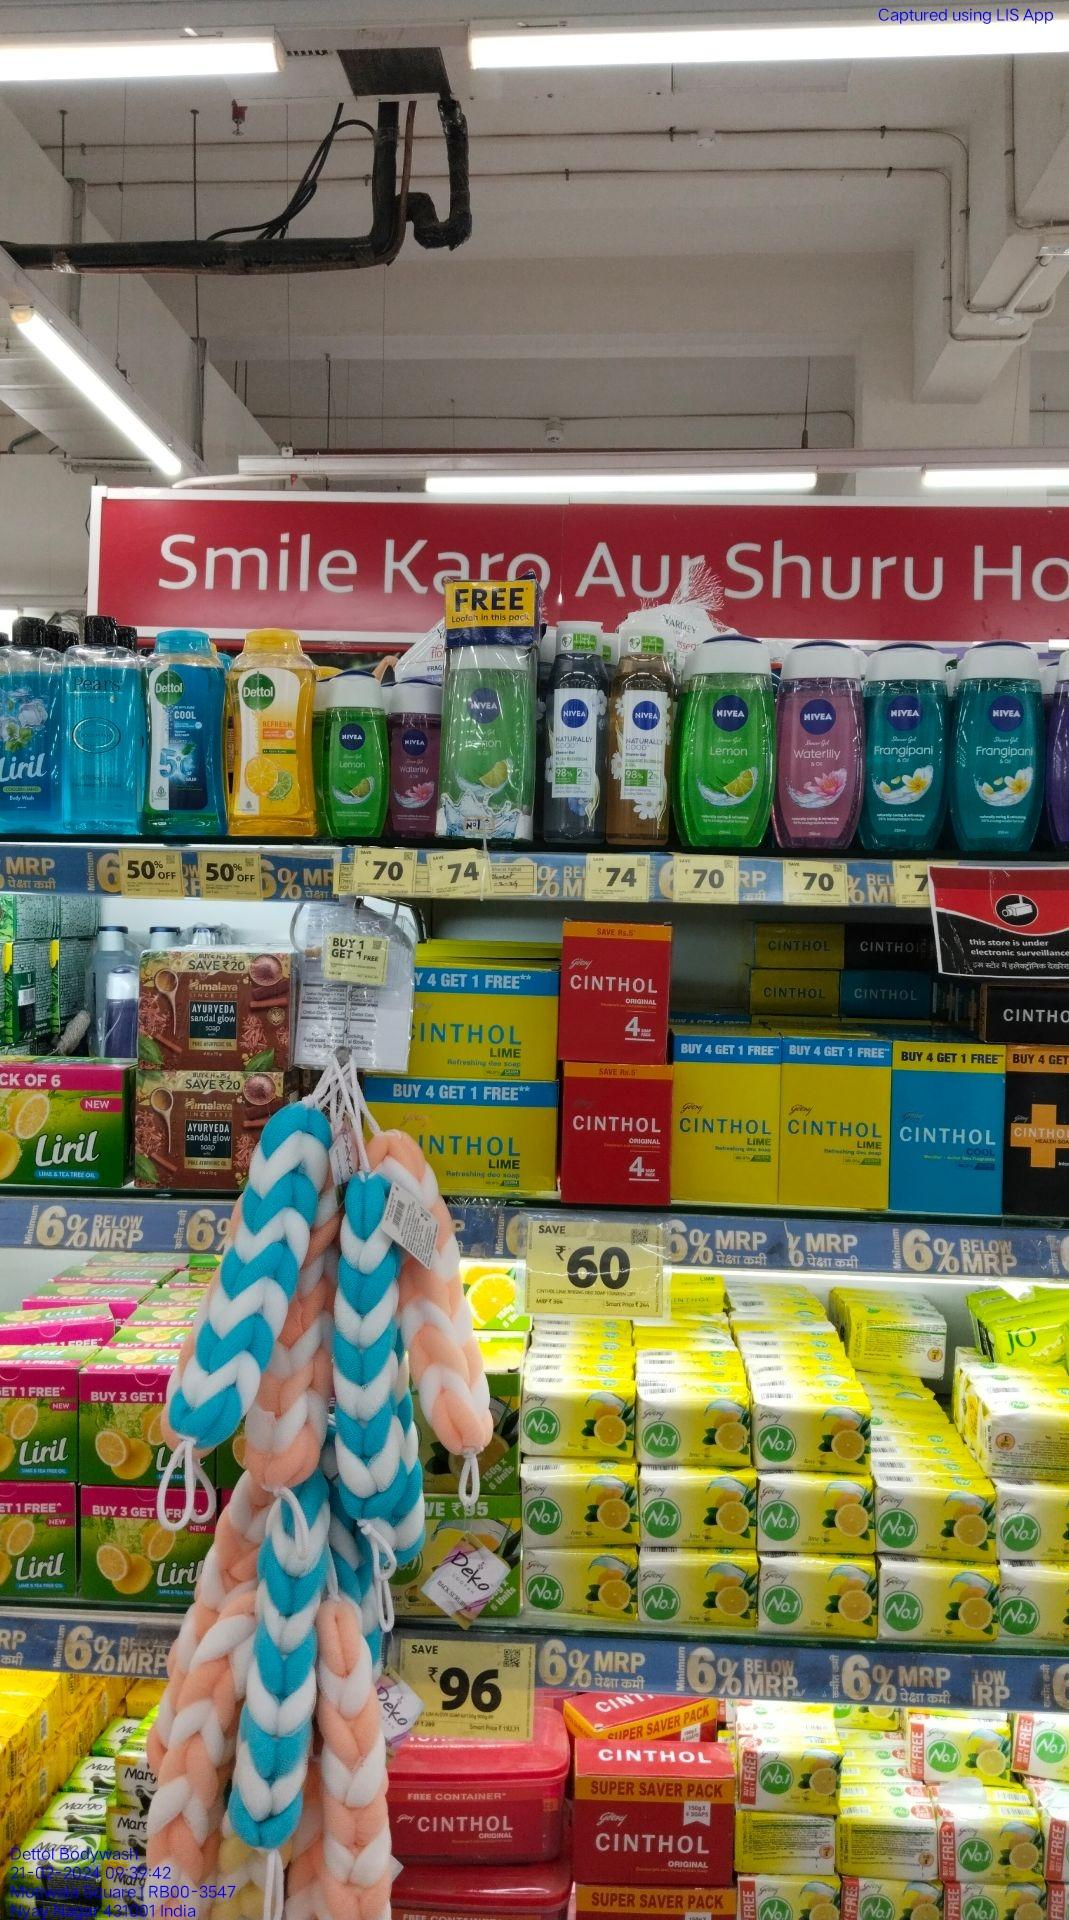Dettol_Bodywash_Cool: (143, 628, 226, 834)
Dettol_Bodywash_Refresh: (234, 626, 315, 840)
Liril_Cooling_Mint_Body_Wash_250ML: (0, 616, 63, 834)
Nivea_Shower_Gel_Frangipani_and_Oil_250ML: (956, 642, 1043, 853), (866, 645, 947, 850)
Nivea_Shower_Gel_Lemon_and_Oil_250ML: (681, 638, 771, 850)
Nivea_Shower_Gel_Waterlily_and_Oil_250ML: (775, 641, 862, 850)
Pears_Pure_Glycerin_and_Mint_Extracts_Body_Wash_250ML: (66, 619, 140, 832)
